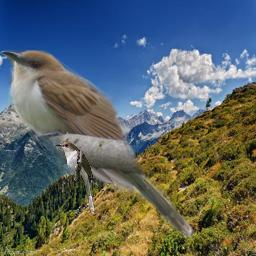Cuckoo: (0, 50, 195, 239), (55, 141, 94, 214)
